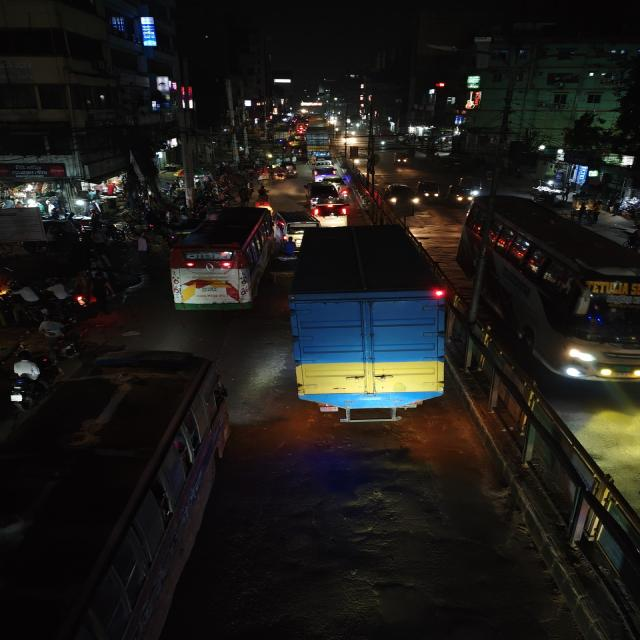bus: (0, 351, 233, 640), (460, 192, 640, 386), (164, 204, 274, 314)
car: (273, 209, 322, 240), (382, 182, 419, 212), (302, 181, 345, 206), (315, 199, 352, 219), (311, 165, 337, 181)
cng: (452, 174, 483, 202), (415, 178, 442, 205), (448, 178, 472, 206), (282, 162, 300, 178), (392, 151, 410, 167)
motorcycle: (6, 352, 46, 411), (68, 270, 118, 312), (33, 317, 83, 355)
pedestrian: (131, 234, 149, 261), (240, 187, 250, 206)
rickshaw: (273, 236, 298, 271), (273, 166, 286, 183)
truck: (288, 227, 451, 423), (304, 130, 334, 156)
